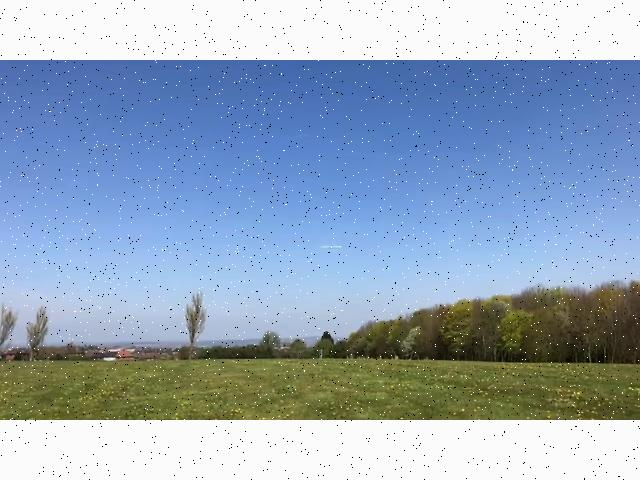Anti-Drone: (320, 244, 342, 250)
